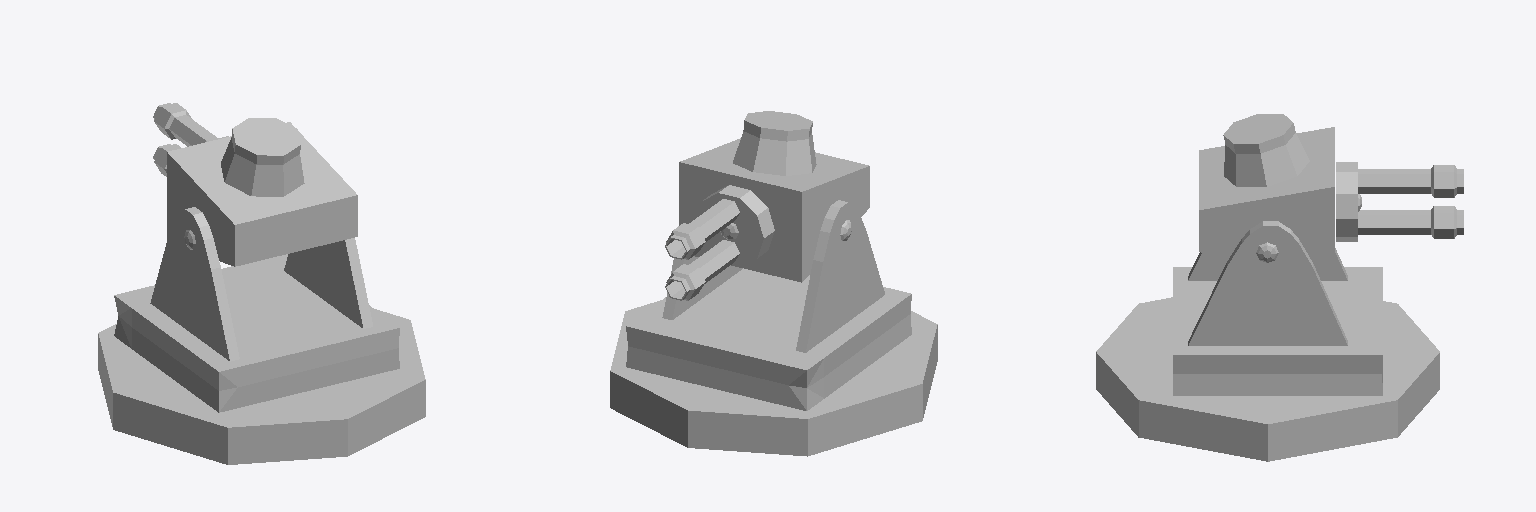
Rendered from Exterior_Turret.obj.
3 renders of one model, left to right at view 1: azimuth 30°, elevation 25°; view 2: azimuth 150°, elevation 25°; view 3: azimuth 270°, elevation 25°, orthographic.
Visible parts, largest first — view 1: base, platform, turret; view 2: base, turret, platform; view 3: base, platform, turret.
Boxes of the visible parts, x1,y1,x2,y2 form: base: [114, 207, 399, 412]; platform: [98, 309, 425, 464]; turret: [153, 103, 357, 266]; base: [626, 200, 911, 410]; turret: [665, 111, 869, 300]; platform: [610, 300, 937, 456]; base: [1173, 221, 1382, 395]; platform: [1096, 297, 1439, 461]; turret: [1199, 114, 1463, 277].
Bounding box in the file's own units: 21.09 × 18.07 × 22.59.